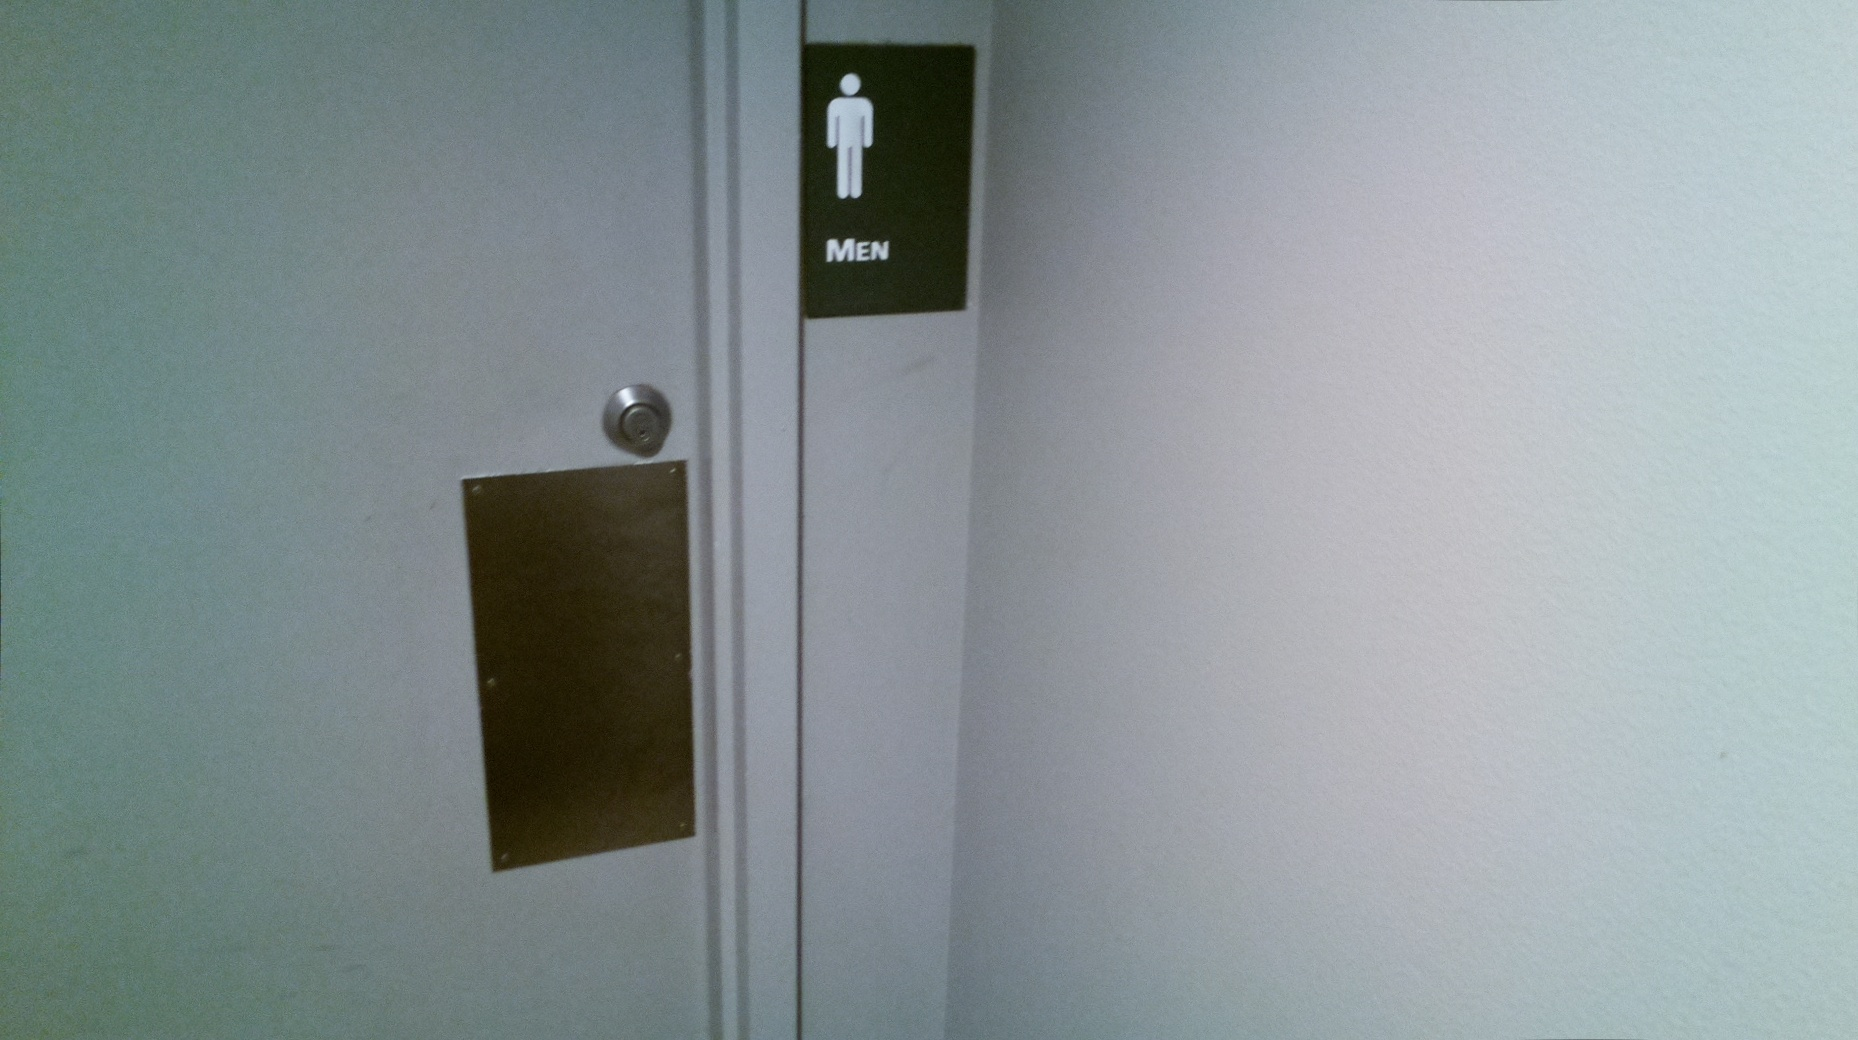bathroom sign: (784, 27, 988, 327)
